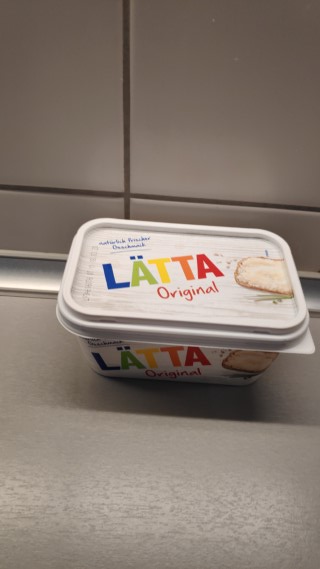laetta: (55, 216, 320, 388)
